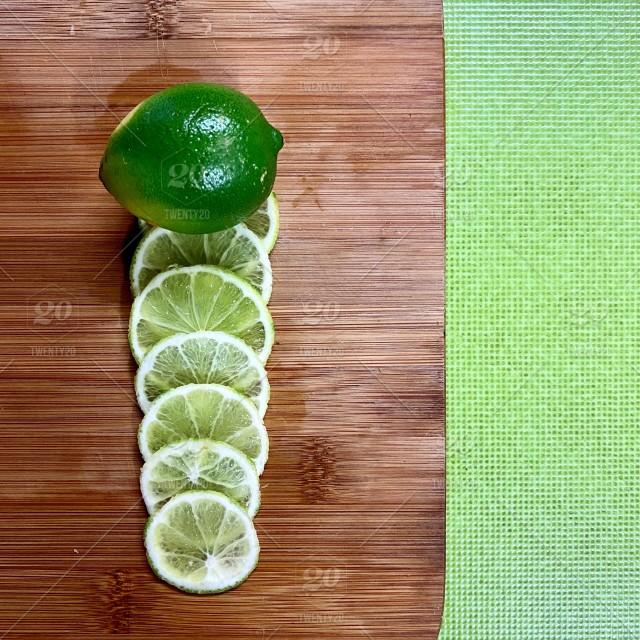lime: (91, 75, 298, 240)
